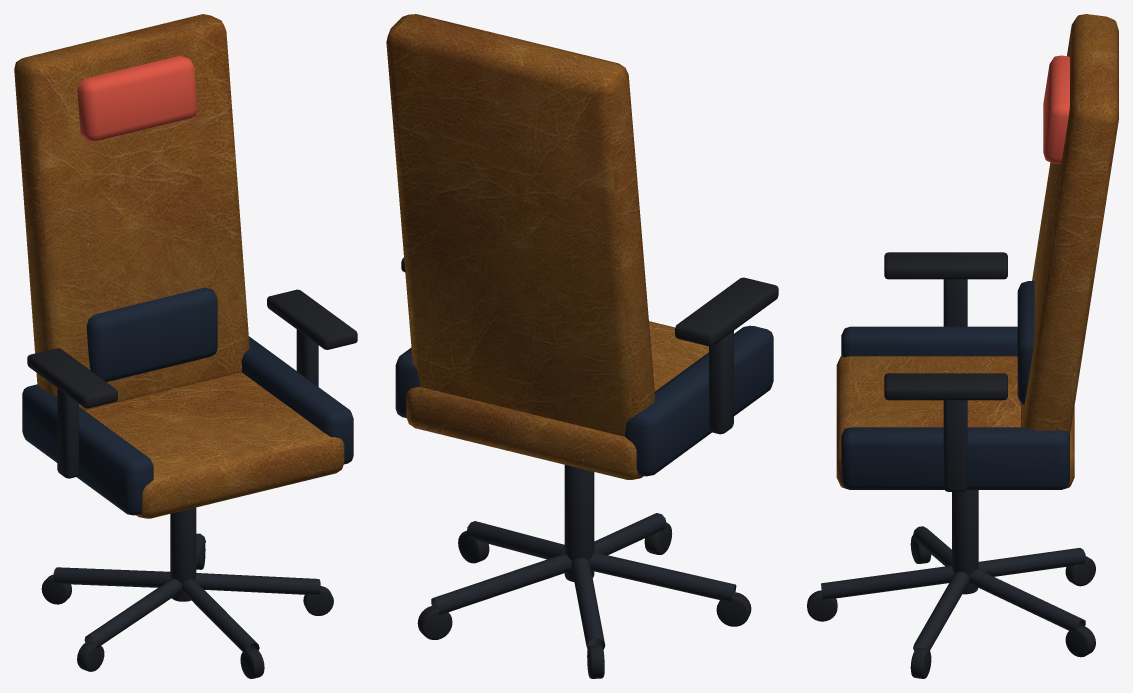
File: gaming-chair-09eb431da886.glb
3 renders of one model, left to right at view 1: azimuth 30°, elevation 25°; view 2: azimuth 150°, elevation 25°; view 3: azimuth 270°, elevation 25°, orthographic. The views are drawn at different scales.
Visible parts, largest first — view 1: High_Backrest, Bolster_Seat_-0.25, Gas_Cylinder, Wheel_0, Head_Pillow; view 2: High_Backrest, Gas_Cylinder, Bolster_Seat_-0.25, Wheel_0; view 3: High_Backrest, Bolster_Seat_-0.25, Gas_Cylinder, Wheel_0, Head_Pillow.
Part boxes in pixels (x1,y1,x2,y2): High_Backrest: (14, 14, 344, 518); Bolster_Seat_-0.25: (22, 287, 353, 515); Gas_Cylinder: (53, 329, 320, 654); Wheel_0: (27, 289, 357, 678); Head_Pillow: (77, 55, 197, 141); High_Backrest: (386, 14, 708, 479); Gas_Cylinder: (431, 331, 736, 650); Bolster_Seat_-0.25: (395, 325, 773, 476); Wheel_0: (401, 258, 778, 678); High_Backrest: (836, 14, 1118, 488); Bolster_Seat_-0.25: (841, 281, 1069, 489); Gas_Cylinder: (821, 279, 1085, 653); Wheel_0: (807, 252, 1095, 678); Head_Pillow: (1043, 55, 1069, 164).
Size of the model in its own units: 0.685 by 1.3 by 0.6547.
5 materials, 1 textured.
